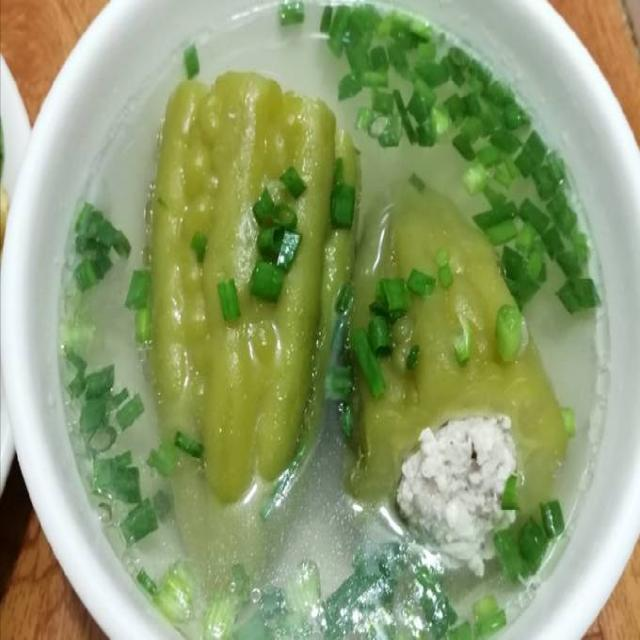kho qua: (150, 72, 358, 506), (350, 186, 573, 575)
